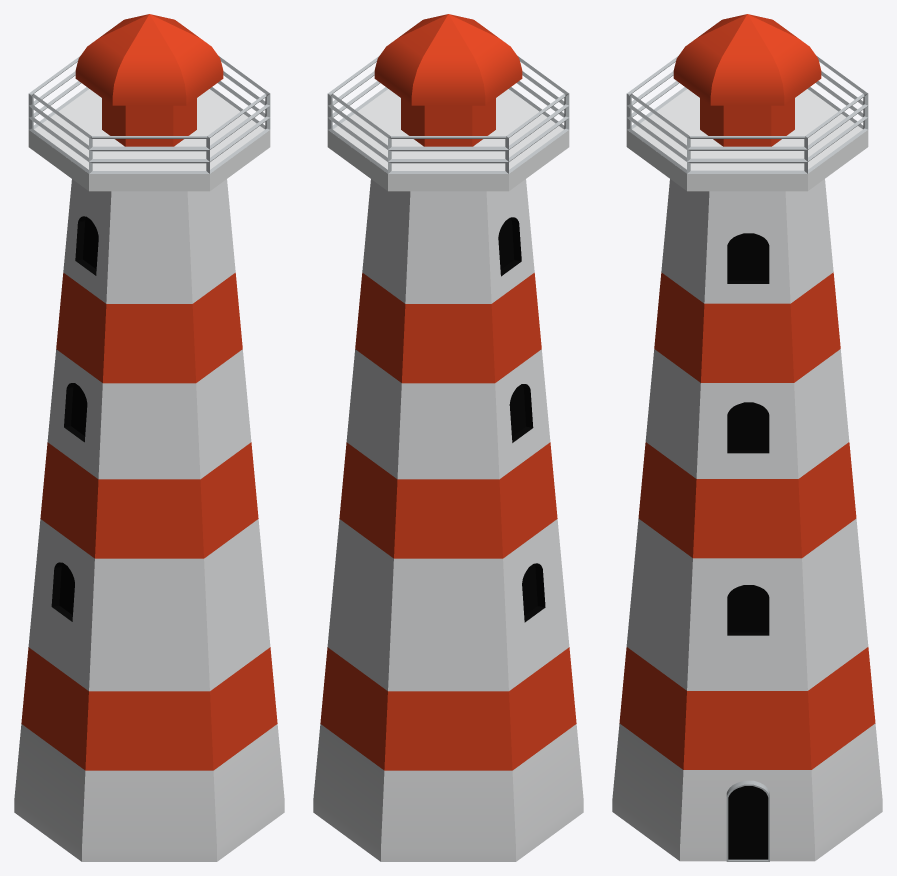
Rendered from tower.fbx.
The picture shows the model from 3 angles, left to right: view 1: azimuth 30°, elevation 25°; view 2: azimuth 150°, elevation 25°; view 3: azimuth 270°, elevation 25°; orthographic projection.
Parts seen in each view (by area): view 1: Circle; view 2: Circle; view 3: Circle.
Part boxes in pixels (<box>): Circle: <box>14,14,284,861</box>; Circle: <box>313,14,583,861</box>; Circle: <box>612,14,882,861</box>.
Size of the model in its own units: 646 by 2384 by 732.
